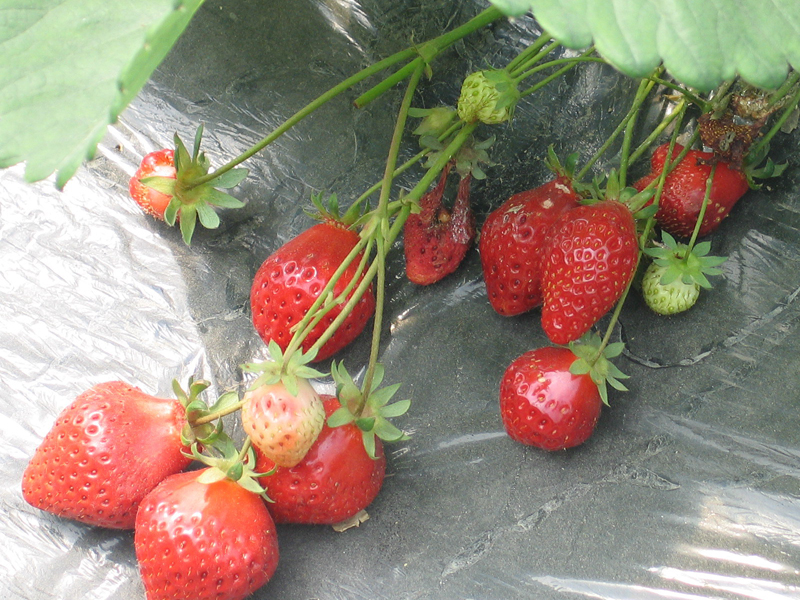StrawberryFusiform: (15, 377, 206, 531), (251, 390, 391, 529), (131, 471, 284, 595), (250, 213, 374, 365), (478, 170, 586, 319), (538, 188, 636, 341), (494, 341, 607, 457)
StrawberryIrremovable: (239, 375, 328, 468), (642, 255, 702, 318), (454, 69, 514, 126)
StrawberryOther: (631, 135, 753, 242), (126, 147, 206, 230)
StrawberryRemovable: (17, 380, 206, 530), (134, 473, 281, 597), (253, 393, 389, 525), (251, 214, 372, 362), (479, 171, 584, 318), (541, 190, 635, 340), (496, 342, 607, 456), (632, 136, 752, 240), (127, 149, 204, 227)
